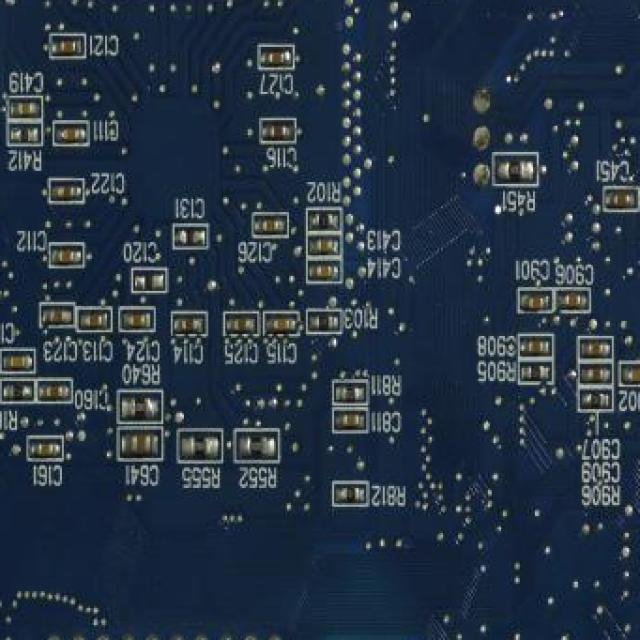capacitor: (130, 434, 152, 457), (342, 413, 361, 432), (36, 441, 54, 459), (17, 101, 35, 118), (62, 125, 80, 142), (58, 184, 76, 201), (232, 317, 250, 333), (128, 312, 146, 328), (48, 310, 66, 326), (58, 40, 76, 56), (268, 50, 286, 66), (315, 238, 333, 254), (315, 264, 333, 280), (58, 248, 76, 264), (10, 354, 28, 370), (588, 342, 606, 358), (612, 192, 630, 208), (180, 317, 198, 332), (270, 124, 288, 139), (272, 317, 290, 332), (565, 293, 583, 308), (588, 368, 606, 383), (528, 296, 544, 312), (47, 385, 64, 400), (84, 314, 102, 328), (261, 218, 279, 232), (528, 340, 546, 354)
resistor: (503, 159, 527, 184), (129, 396, 153, 420), (244, 433, 267, 458), (188, 433, 211, 458), (340, 384, 360, 404), (586, 390, 606, 410), (526, 362, 546, 382), (314, 212, 333, 231), (9, 383, 30, 400), (314, 314, 334, 331), (342, 486, 361, 503)
